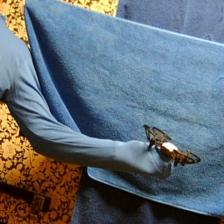drone: (143, 122, 201, 170)
